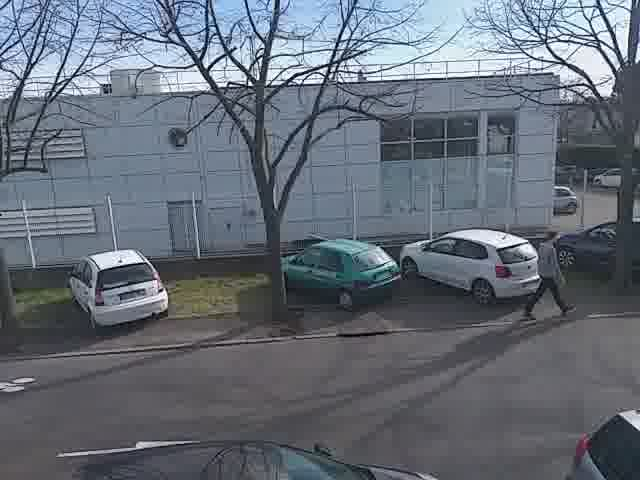persona: (520, 228, 577, 322)
